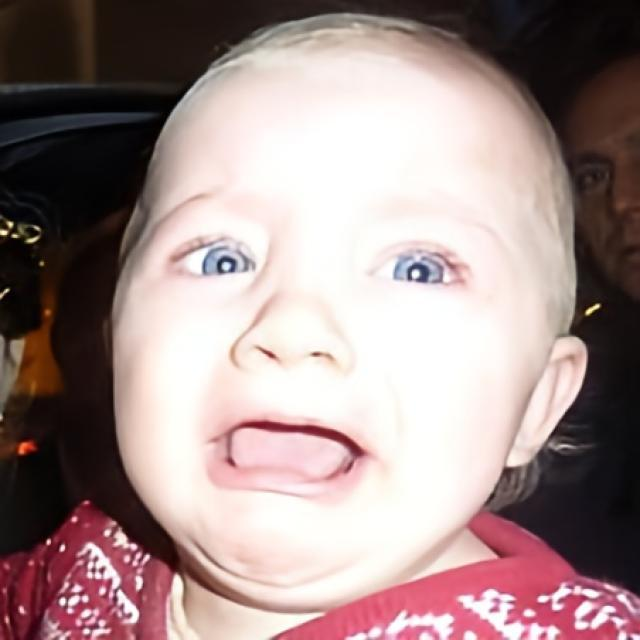fear: (109, 14, 552, 586)
